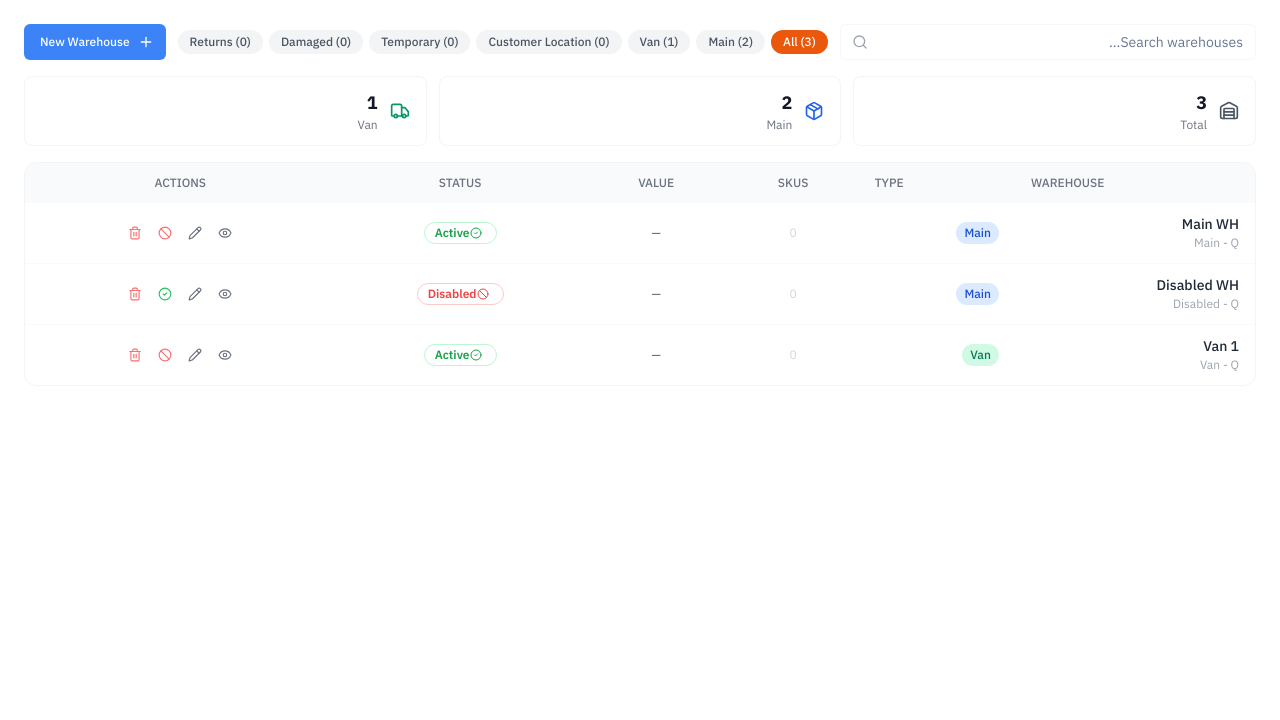
Scenario: English translations (isRTL=false) › shows "Save" instead of "Create" in edit dialog
The image size is (1280, 720).
Click the button titled "Edit" in the row of "Main - Q": (195, 233) x1=182 y1=220 x2=208 y2=246
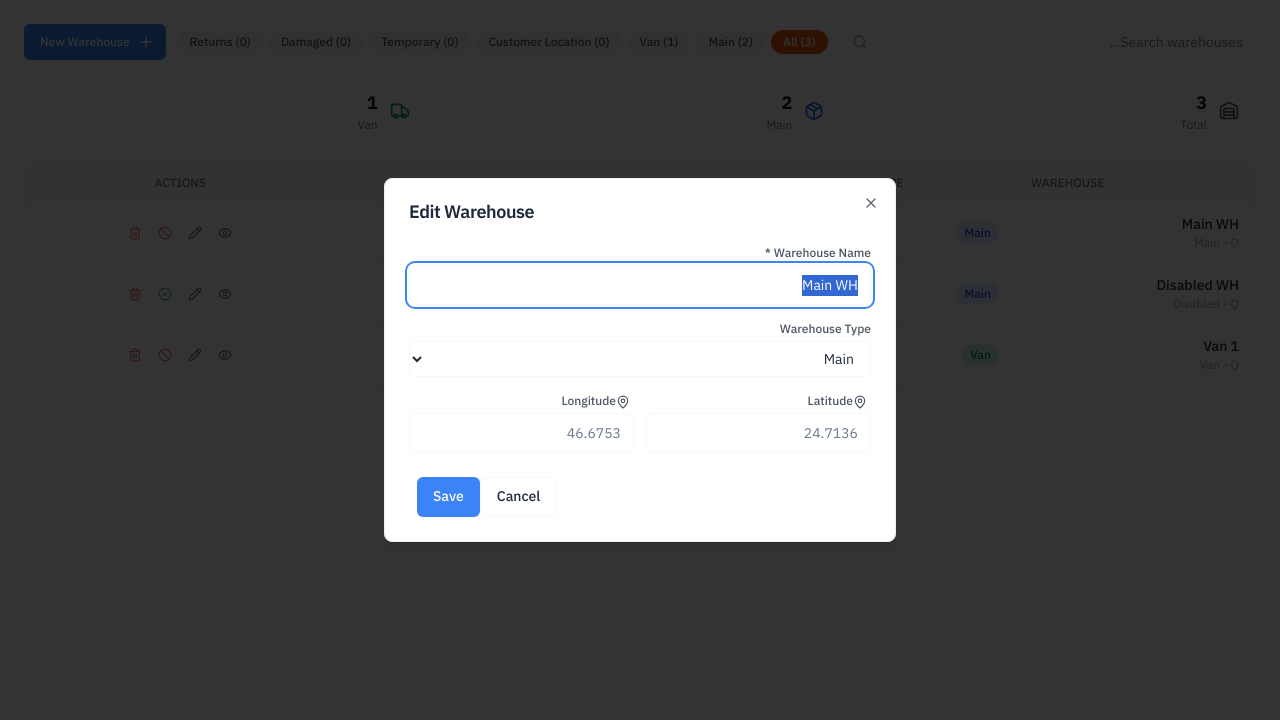
Result: the heading "Edit Warehouse" is shown at x1=409 y1=198 x2=534 y2=225
Result: the button "Save" is shown at x1=417 y1=477 x2=480 y2=517
